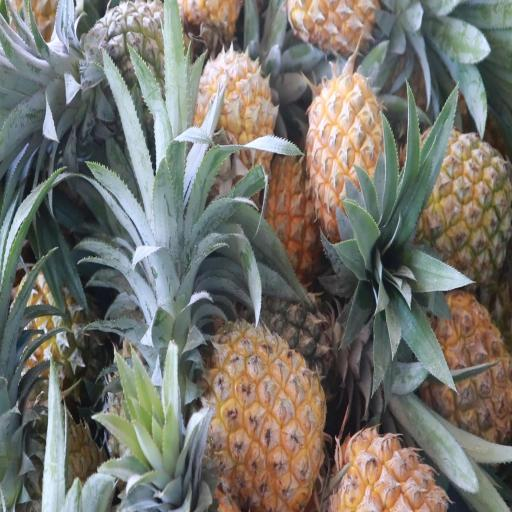Pineapple - v8 v1: (213, 318, 325, 512), (419, 286, 511, 441), (309, 75, 392, 241), (420, 132, 511, 282), (330, 423, 450, 512), (200, 53, 277, 185)
